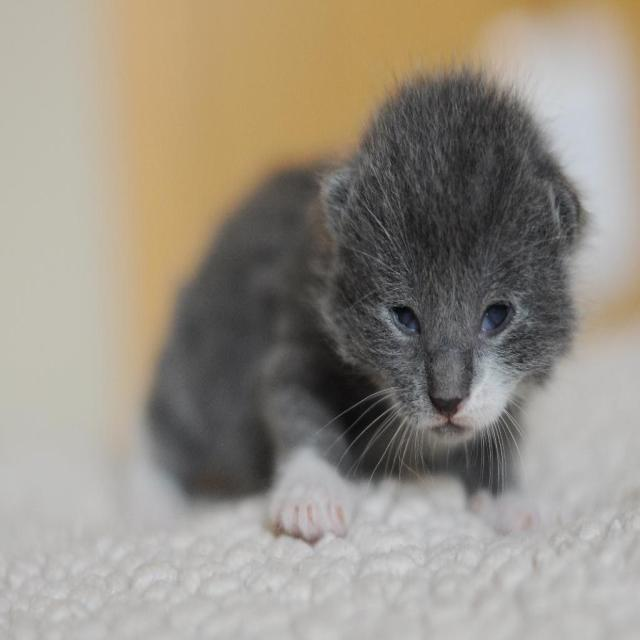Cat: (131, 50, 599, 546)
